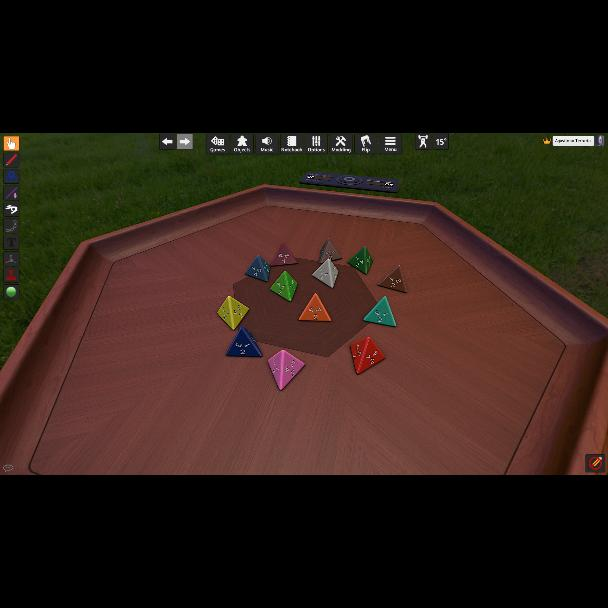d4: (266, 349, 304, 390), (349, 337, 384, 375), (227, 326, 264, 358), (217, 296, 249, 330), (362, 296, 395, 326), (270, 270, 298, 302), (299, 294, 329, 322), (378, 265, 406, 293), (311, 260, 337, 290), (244, 255, 270, 283), (347, 247, 372, 275), (270, 243, 296, 267), (318, 239, 340, 265)
